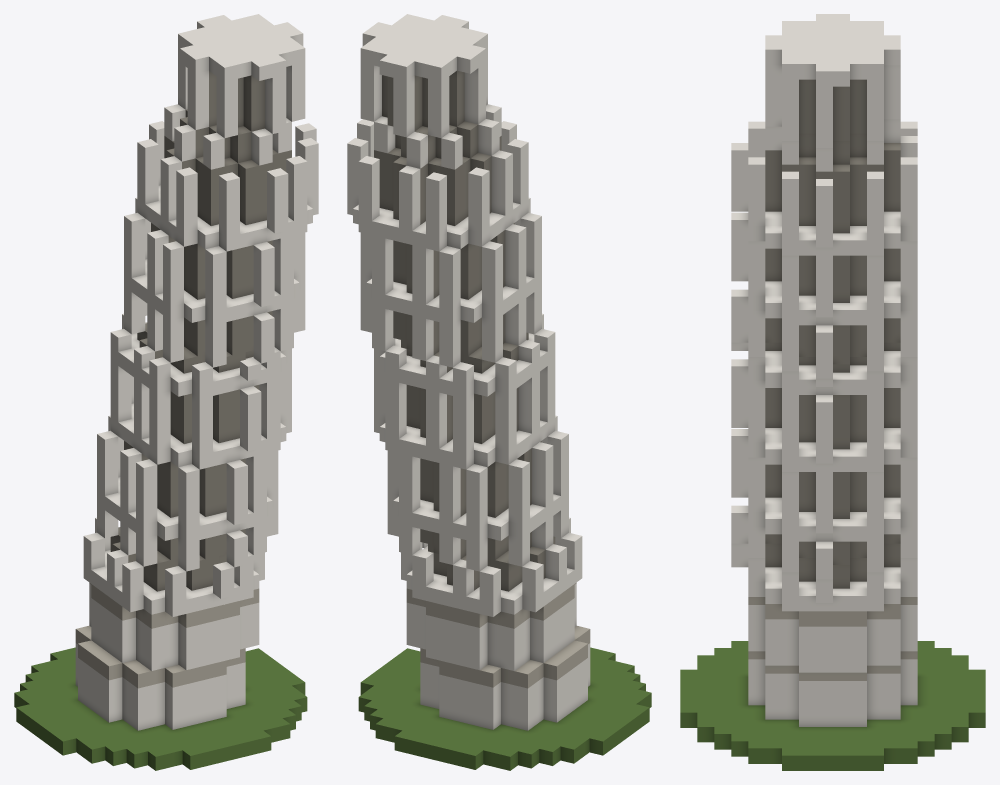
File: w_leaning_tower.glb
3 views of the same model, side by side, from view 1: azimuth 30°, elevation 25°; view 2: azimuth 150°, elevation 25°; view 3: azimuth 270°, elevation 25° (orthographic). The views are drawn at different scales.
Visible parts, largest first — view 1: w_leaning_tower_body; view 2: w_leaning_tower_body; view 3: w_leaning_tower_body.
Part boxes in pixels (x1,y1,x2,y2): w_leaning_tower_body: (14, 14, 318, 770); w_leaning_tower_body: (347, 14, 651, 770); w_leaning_tower_body: (680, 14, 985, 770).
Size of the model in its own units: 1.25 by 2.88 by 1.12.
1 material, 1 textured.
